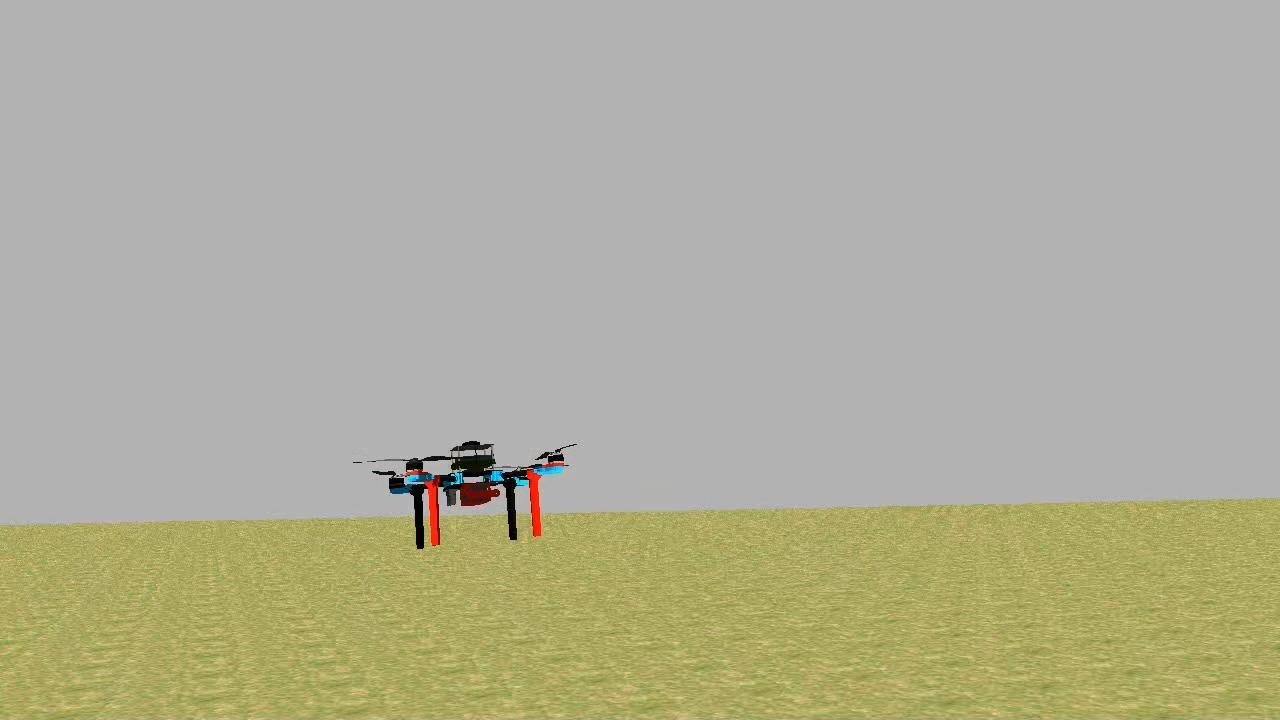UAV: (384, 434, 576, 554)
